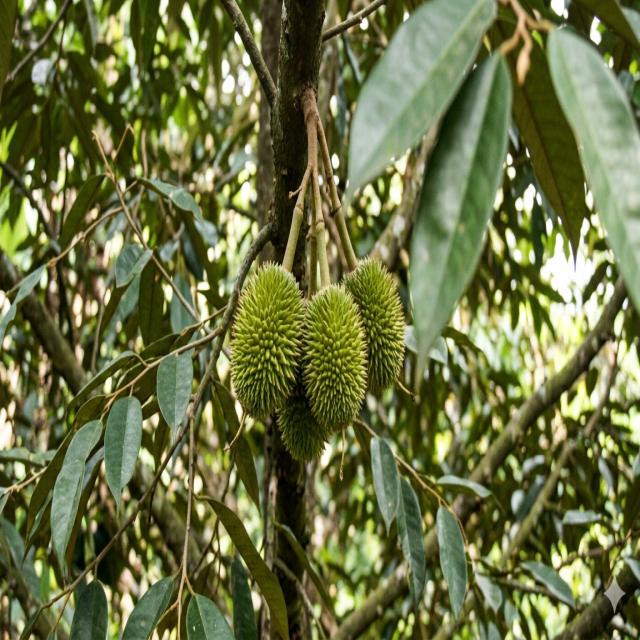immature: (229, 259, 305, 422), (299, 282, 369, 437), (343, 256, 407, 398)
